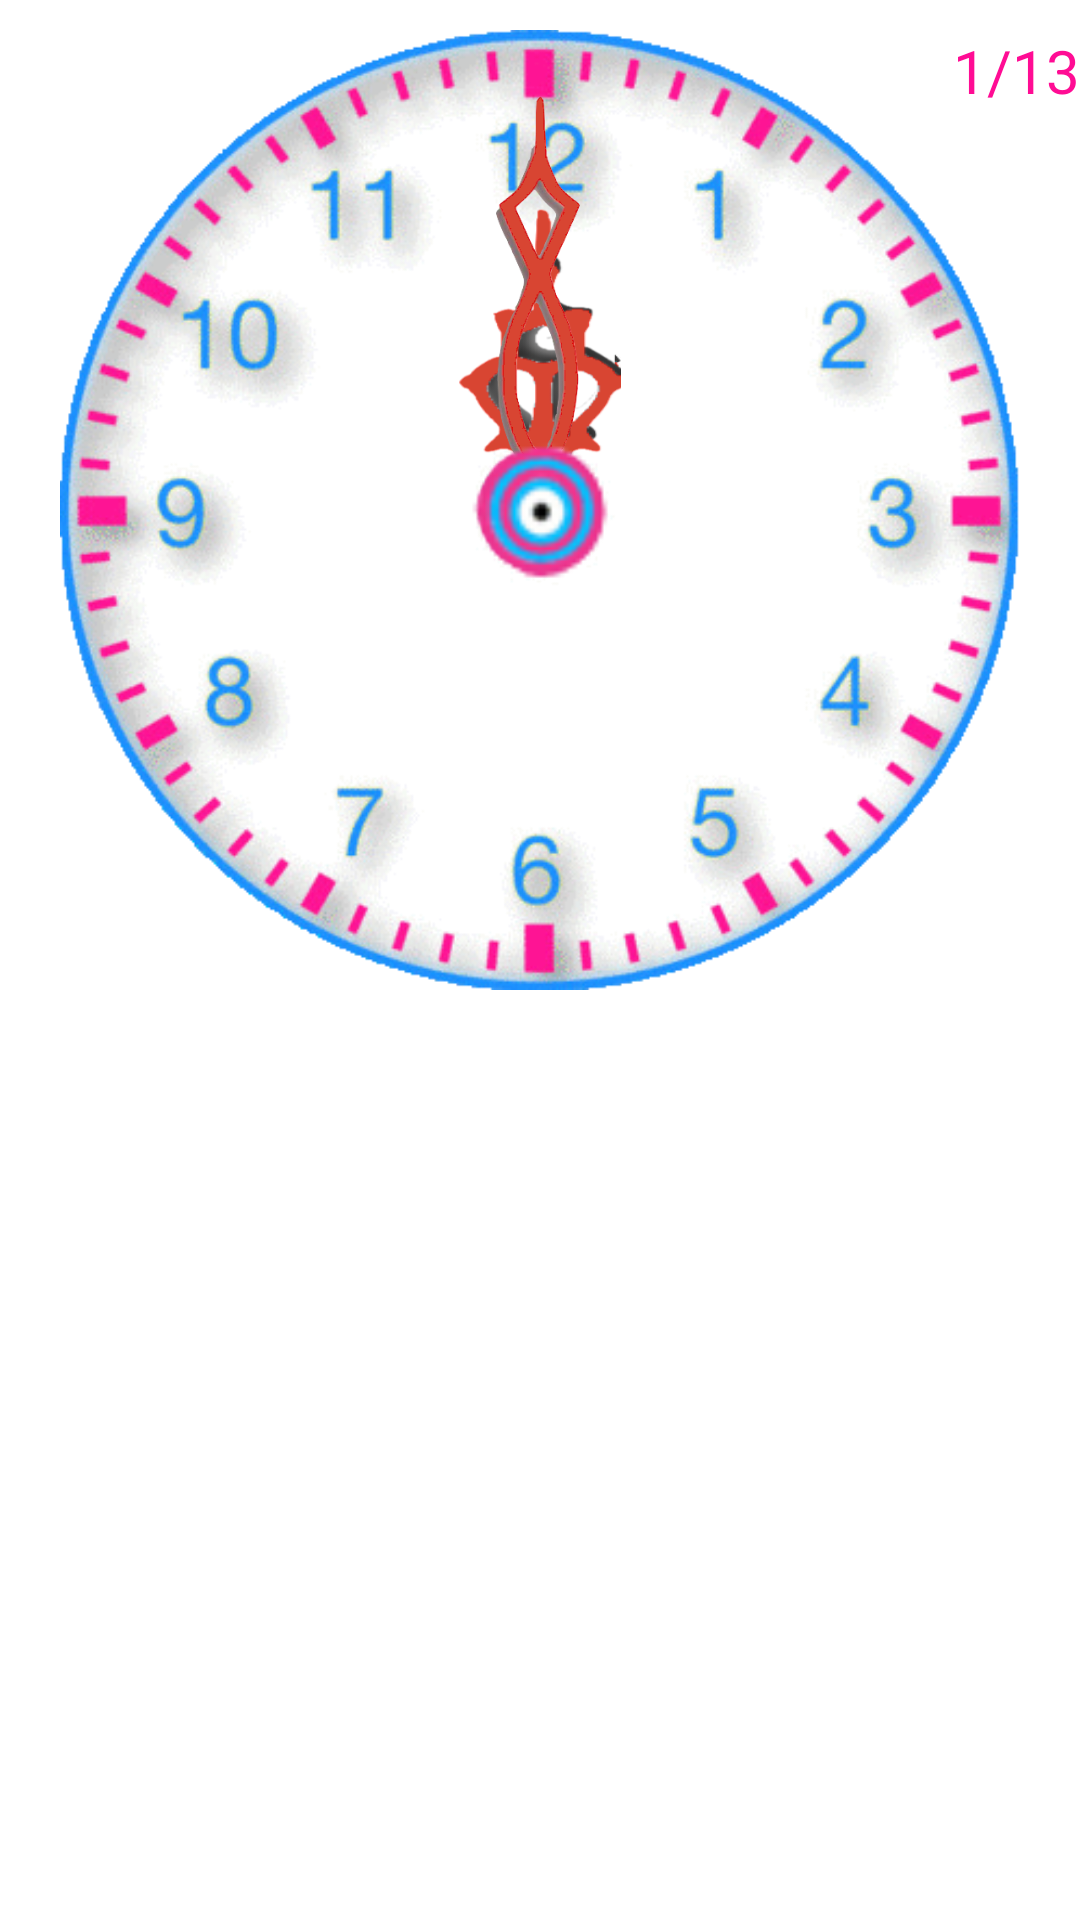

Icon bounding boxes for this 1080 x 1920 phone screenshot, format (x1, y1, x2, y2):
clock center: (474, 435, 608, 578)
